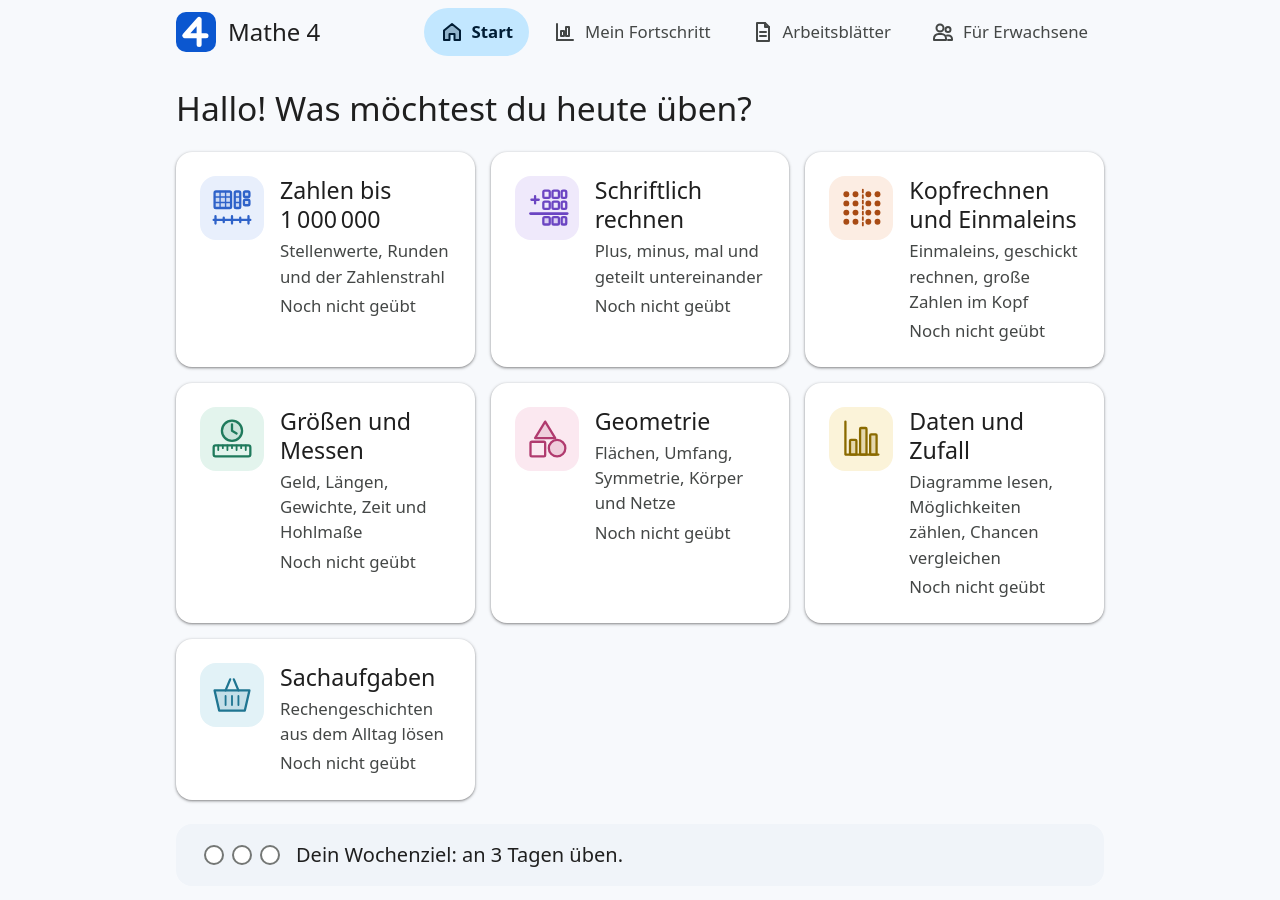
Test: router › navigates with links, moves focus to the new <h1>, updates the title and scrolls up
What coordinates should you click on to do the following:
click the link "Mein Fortschritt"
I would click on:
 (632, 32)
Its box is [553,20,711,44].
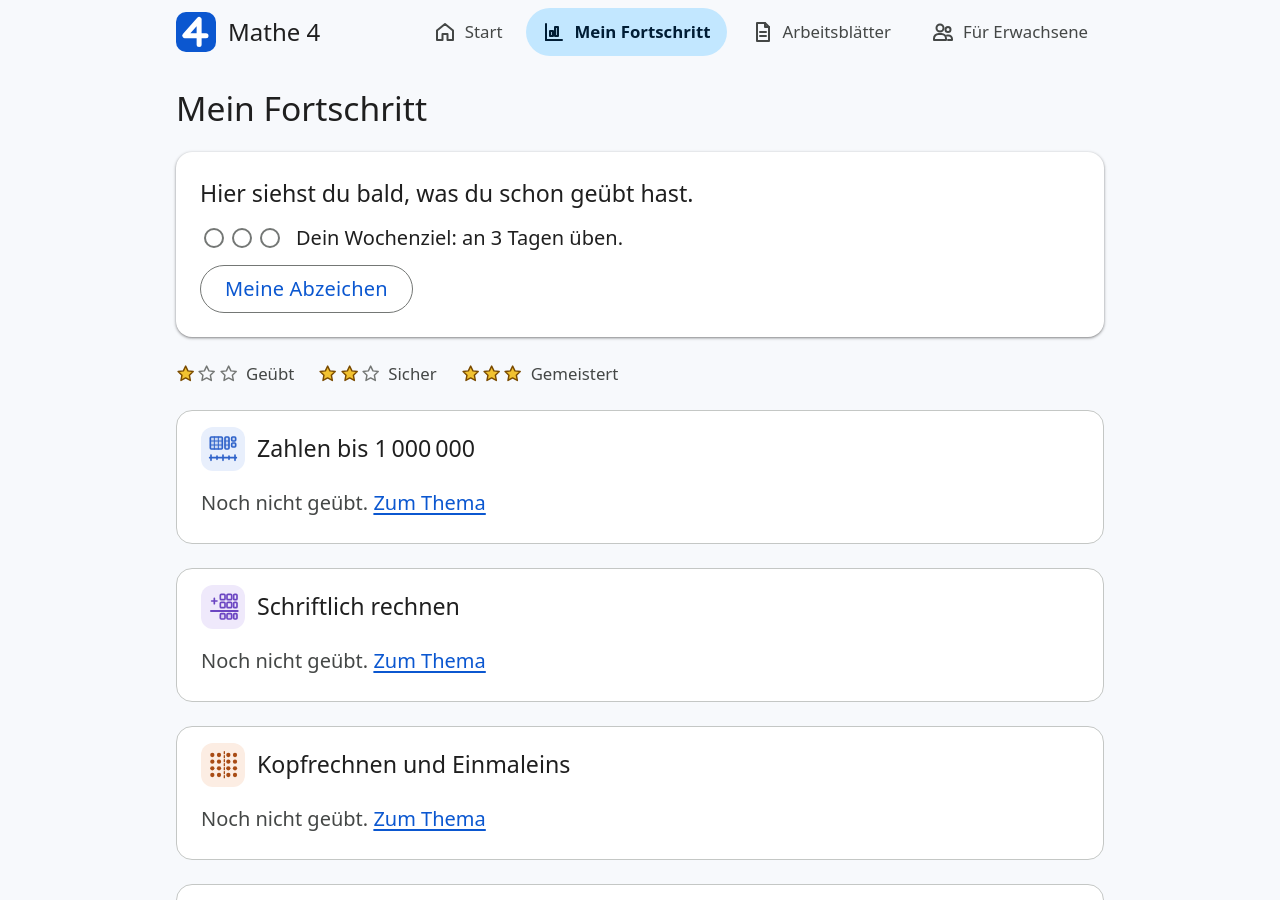
expect the heading "Mein Fortschritt" is shown: met, box [176,85,427,131]
